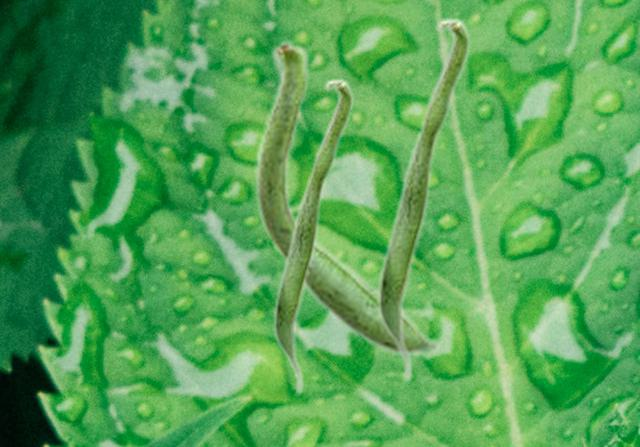french_bean: (254, 37, 440, 356), (376, 16, 470, 385), (272, 77, 353, 396)
